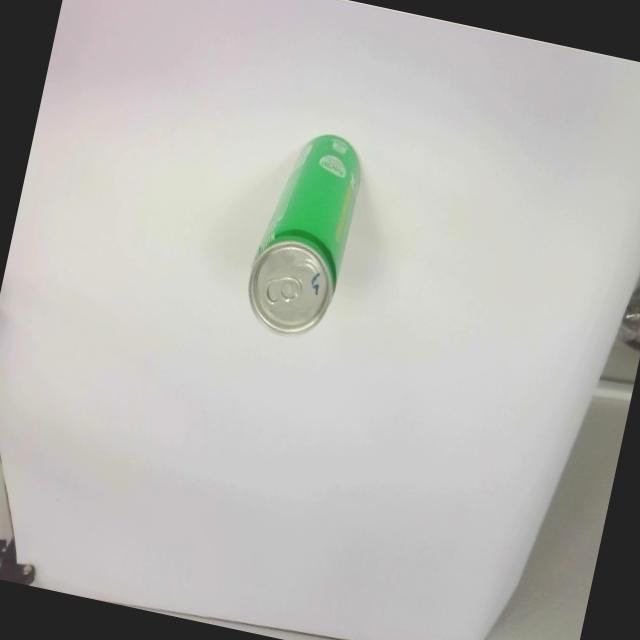debris: (236, 122, 368, 344)
